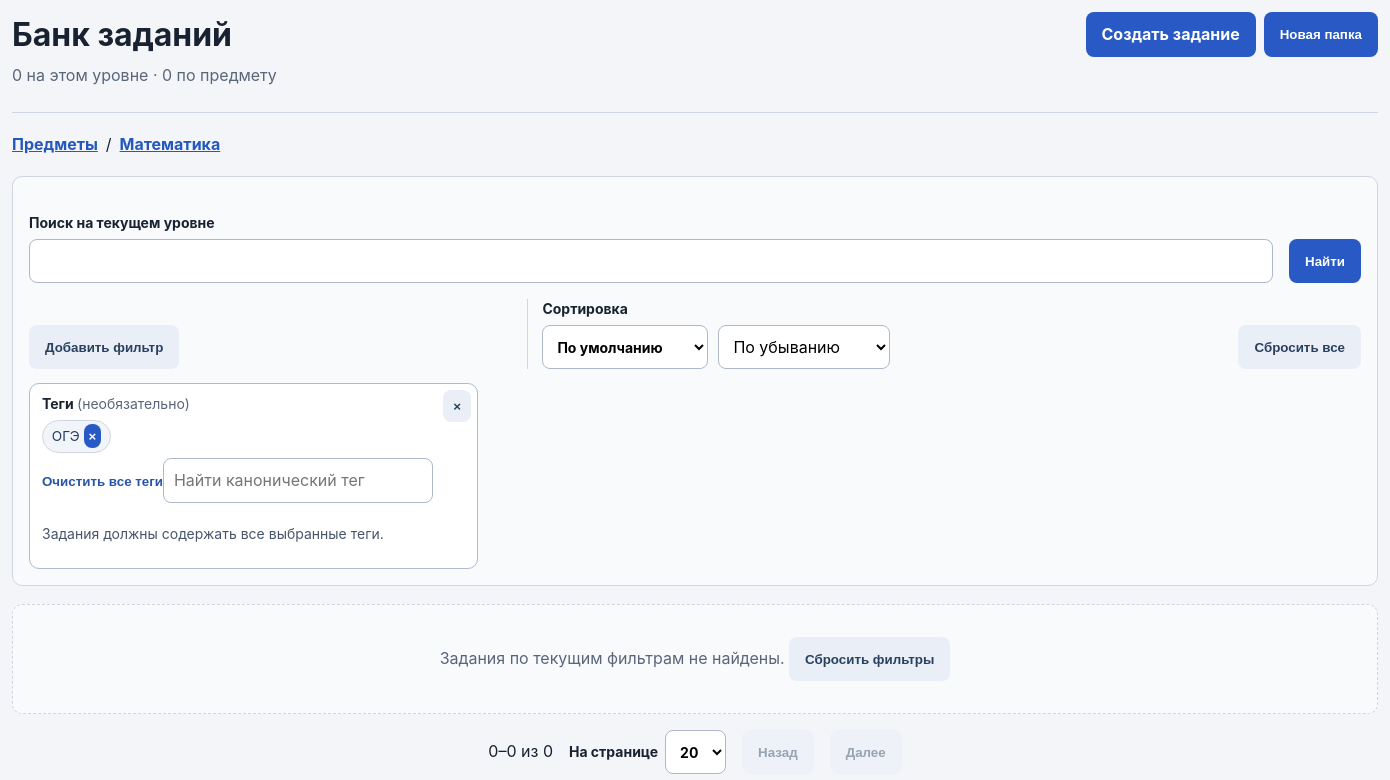
Scenario: filter request resilience › catalog retry keeps direct URL selection and hides raw backend error
expect the text "ОГЭ" is shown: met, box [52, 428, 80, 444]
Click the dropdown named "Поиск: Теги" at (298, 481), box [163, 458, 433, 503]
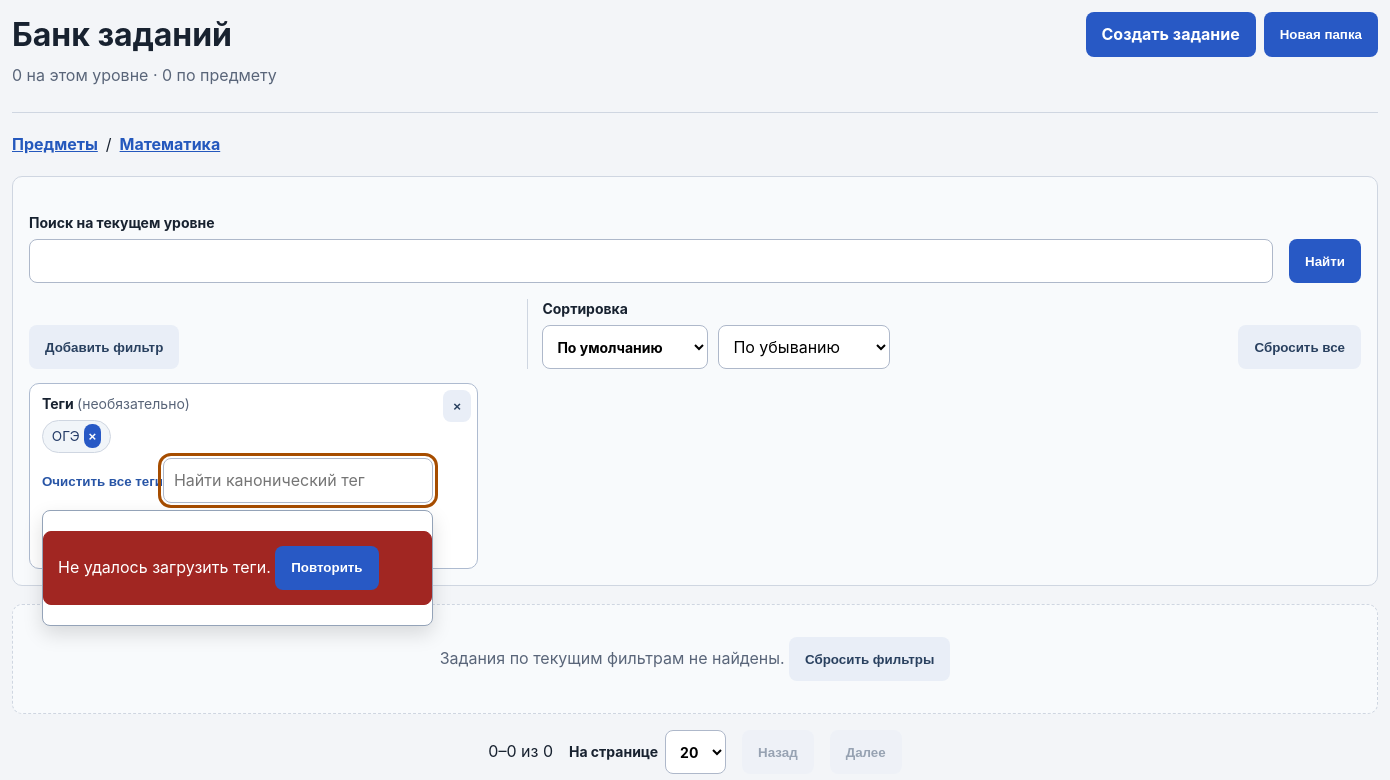
expect the text "ОГЭ" is shown: met, box [52, 428, 80, 444]
expect the text "Не удалось загрузить теги." is shown: met, box [58, 556, 271, 576]
Click the button "Повторить" at (327, 568), box [275, 546, 379, 590]
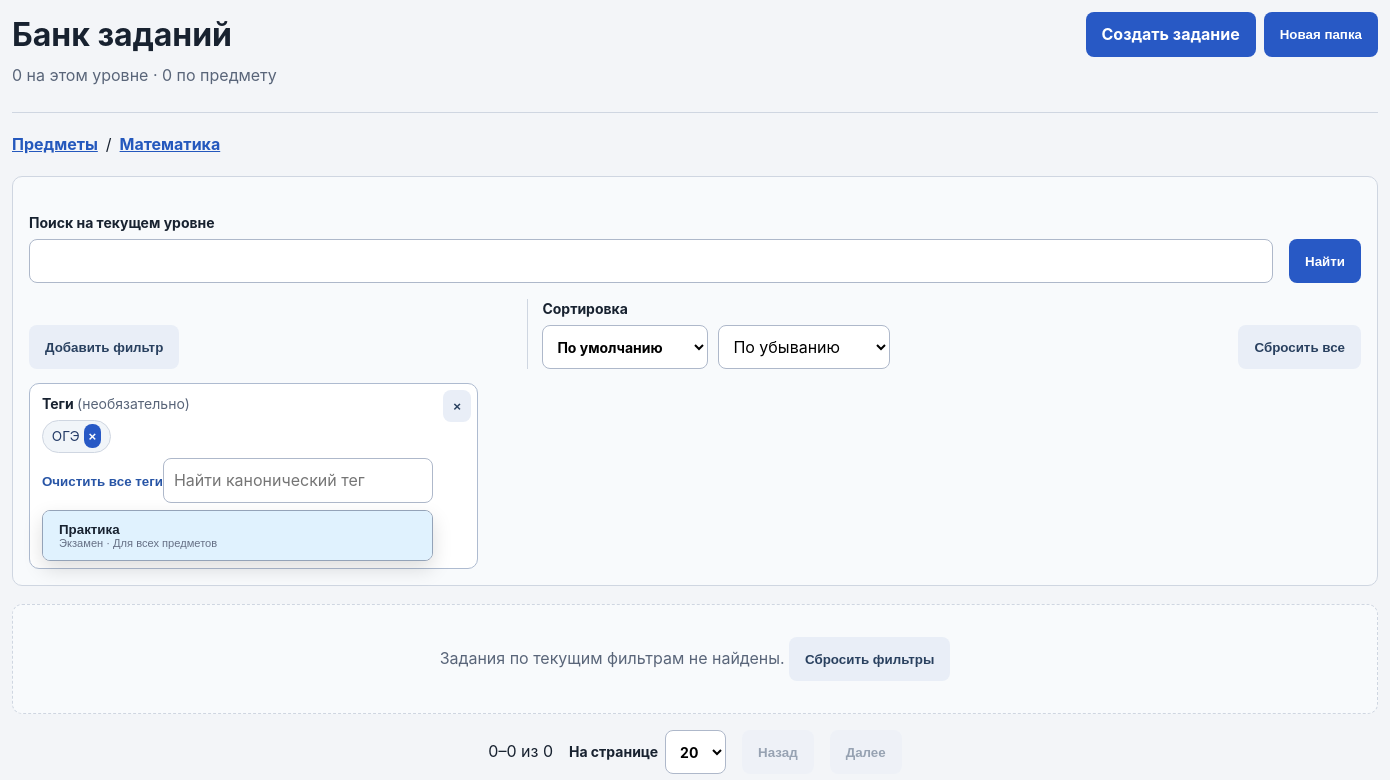
expect the option "Практика Экзамен · Для всех предметов" is shown: met, box [43, 511, 432, 560]
